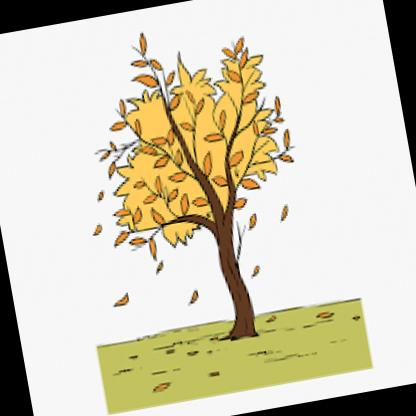branch_sharp: (98, 30, 280, 251)
crown_dizzy: (90, 43, 296, 256)
root_none: (195, 300, 282, 354)
trunk_bark: (213, 239, 259, 309)
